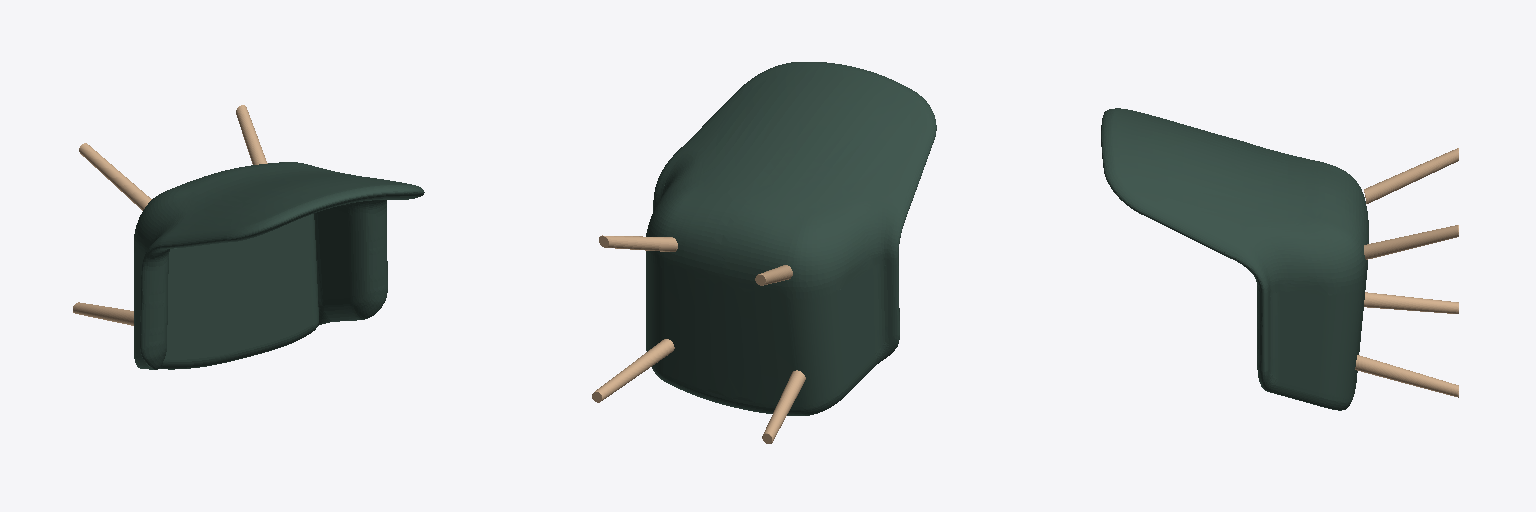
Rendered from Icons-of-Denmark_Smile-Lounge-High-back-Wood-legs.obj.
The picture shows the model from 3 angles: view 1: azimuth 30°, elevation 25°; view 2: azimuth 150°, elevation 25°; view 3: azimuth 270°, elevation 25°; orthographic projection.
Visible parts, largest first — view 1: default; view 2: default; view 3: default.
Part boxes in pixels (x1,y1,x2,y2): default: (73,105,424,369); default: (592,62,936,443); default: (1101,108,1458,410).
Size of the model in its own units: 818 by 791 by 1025.